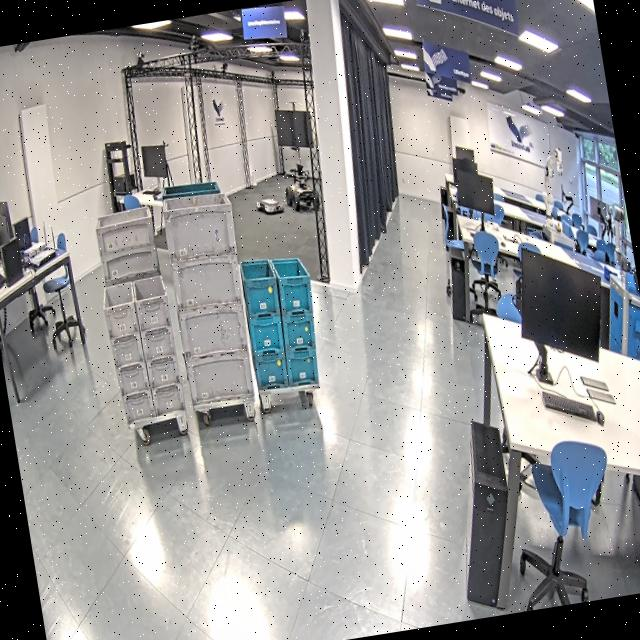Box3G: (92, 206, 158, 256), (99, 244, 161, 282)
Box4G: (158, 187, 242, 266), (176, 301, 254, 364), (170, 252, 244, 316), (184, 346, 256, 406)
Box8G: (132, 276, 177, 333), (100, 282, 142, 340), (144, 353, 187, 392), (140, 325, 182, 364), (150, 381, 193, 419), (108, 334, 146, 370), (114, 364, 151, 400), (121, 388, 158, 424)
BoxB8: (268, 253, 316, 320), (240, 256, 288, 322), (246, 314, 288, 358), (280, 312, 318, 355), (254, 350, 292, 392), (282, 348, 320, 388)
